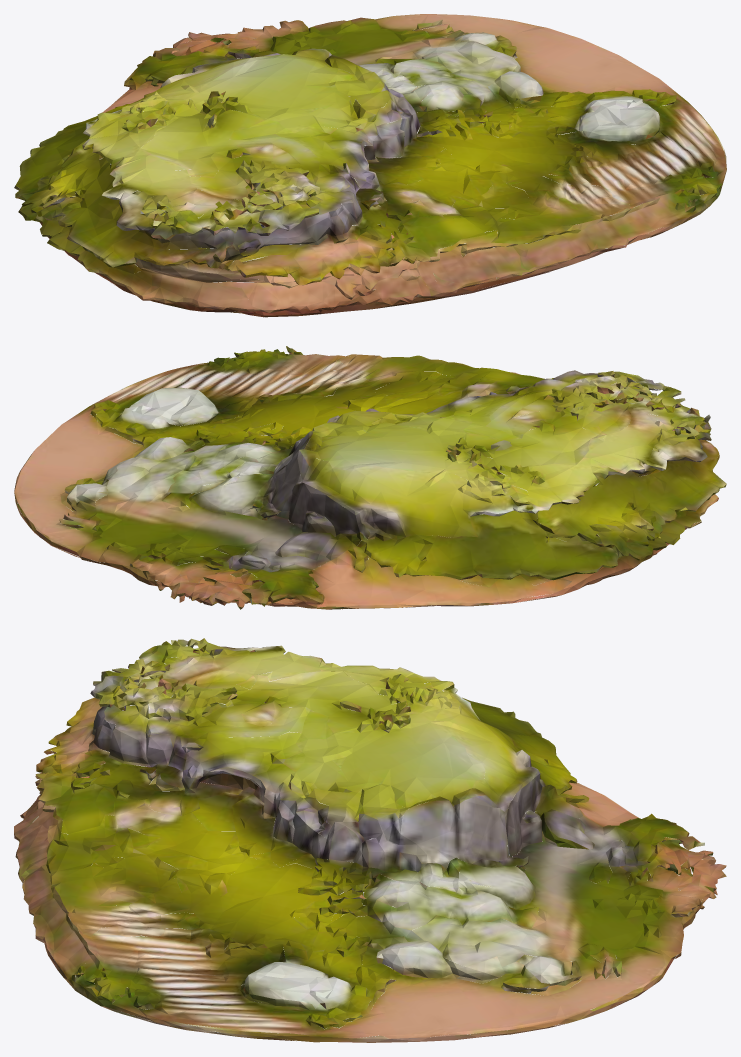
File: wt-village-knoll.glb
3 renders of one model, top to bottom at view 1: azimuth 30°, elevation 25°; view 2: azimuth 150°, elevation 25°; view 3: azimuth 270°, elevation 25°, orthographic. The views are drawn at different scales.
Parts seen in each view (by area): view 1: tmpn5mpxyrh.ply; view 2: tmpn5mpxyrh.ply; view 3: tmpn5mpxyrh.ply.
Part boxes in pixels (x1=…): tmpn5mpxyrh.ply: x1=14, y1=14, x2=726, y2=317; tmpn5mpxyrh.ply: x1=14, y1=346, x2=726, y2=609; tmpn5mpxyrh.ply: x1=14, y1=638, x2=726, y2=1042.
Bounding box in the file's own units: 7 × 1.02 × 6.25.
1 material, 1 textured.
